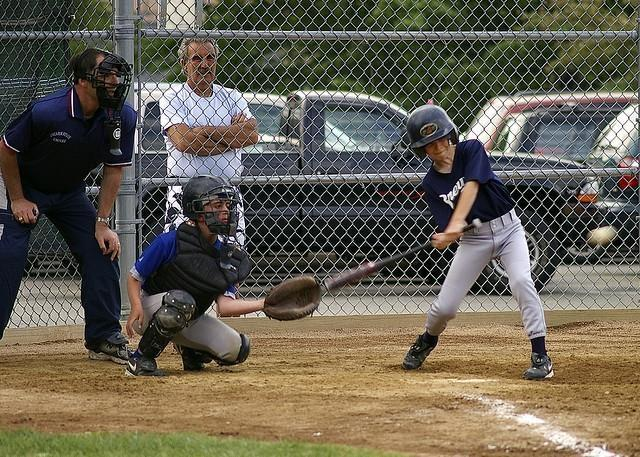car: (134, 82, 362, 154), (463, 84, 640, 152), (488, 108, 630, 166), (590, 105, 640, 213)
truck: (238, 88, 598, 294)
